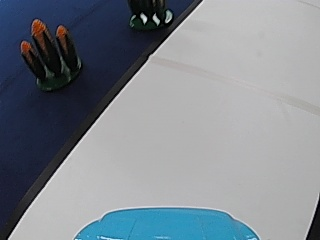corn: (20, 18, 83, 88), (127, 0, 173, 31)
